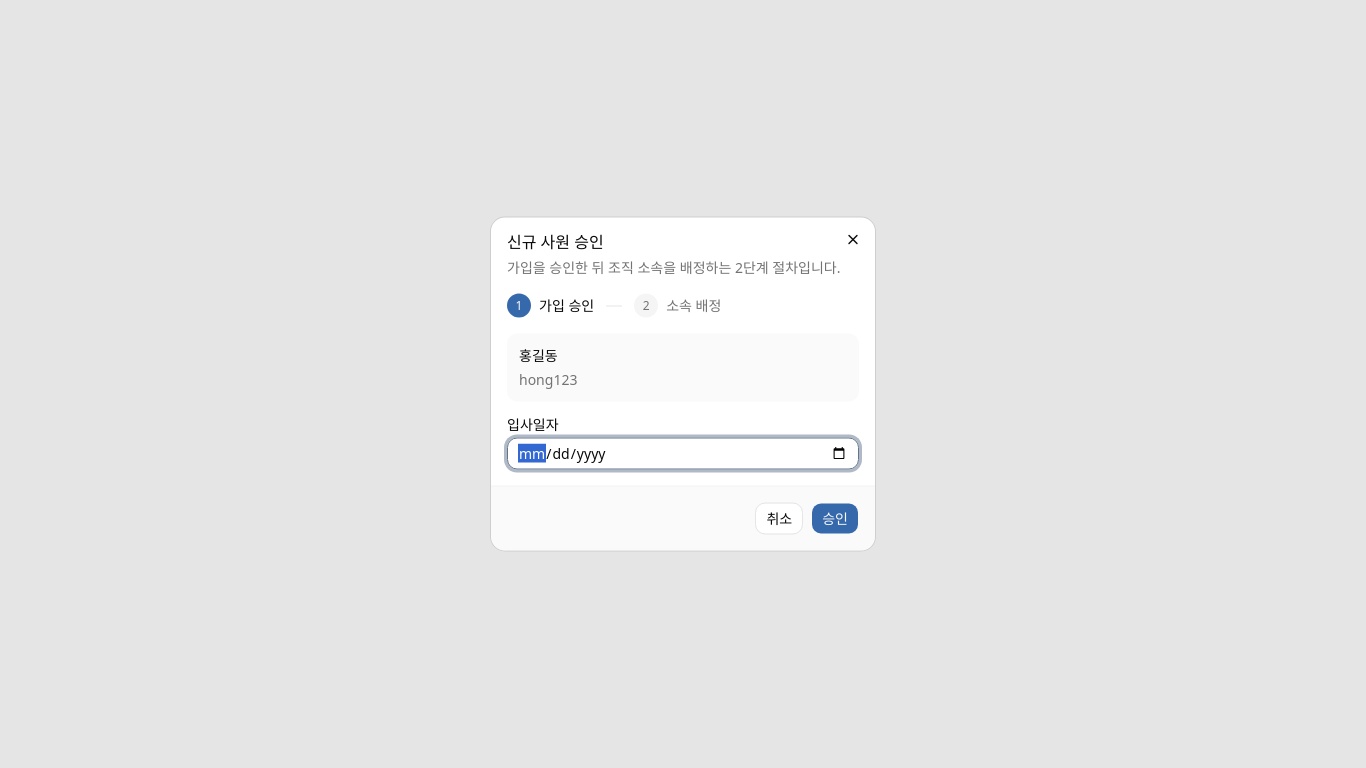
EmpApprovalWizardDialog › 1단계: 입사일자를 비우고 제출하면 유효성 에러가 표시되고 승인 요청이 발생하지 않는다
This screenshot has width=1366, height=768.
Click the button "승인" at (835, 518), box 811,502 -> 859,534
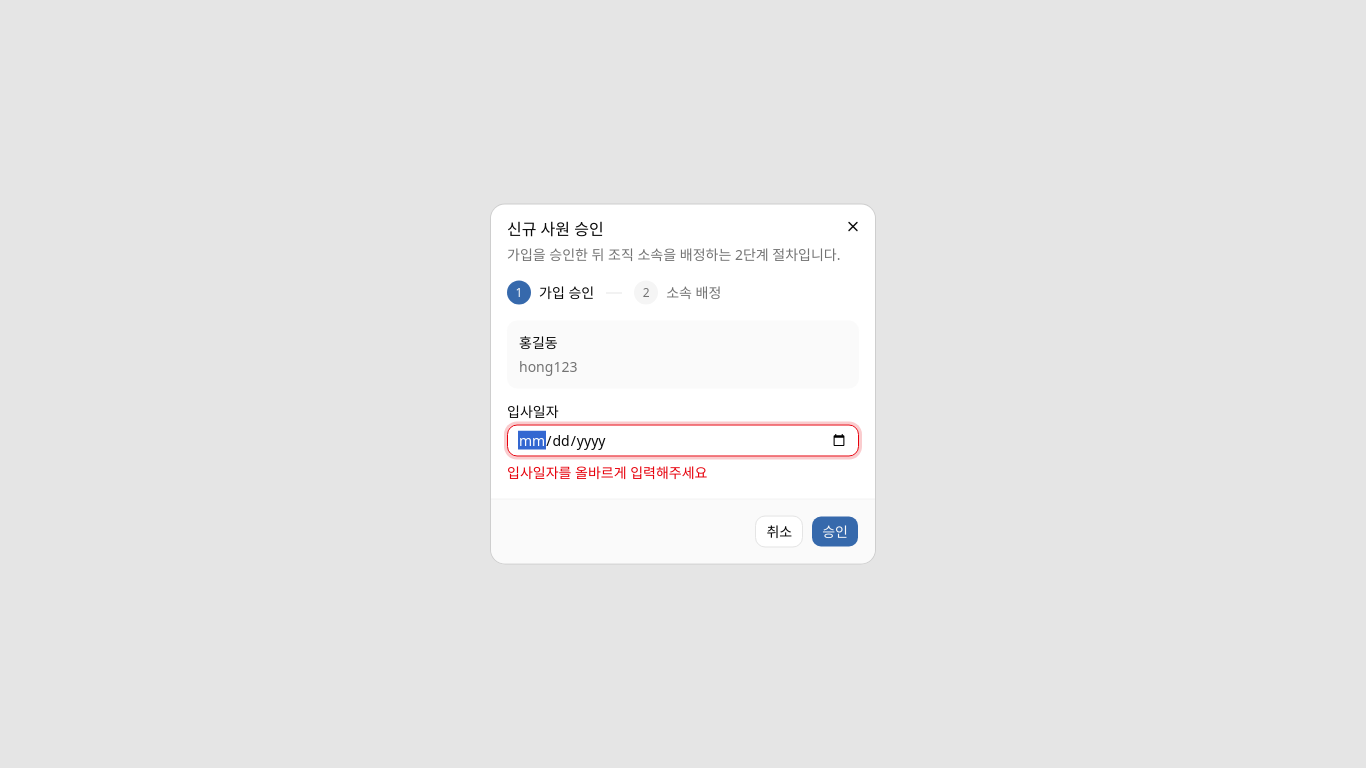
Now the text "입사일자를 올바르게 입력해주세요" is shown, box 507,462 -> 708,482
